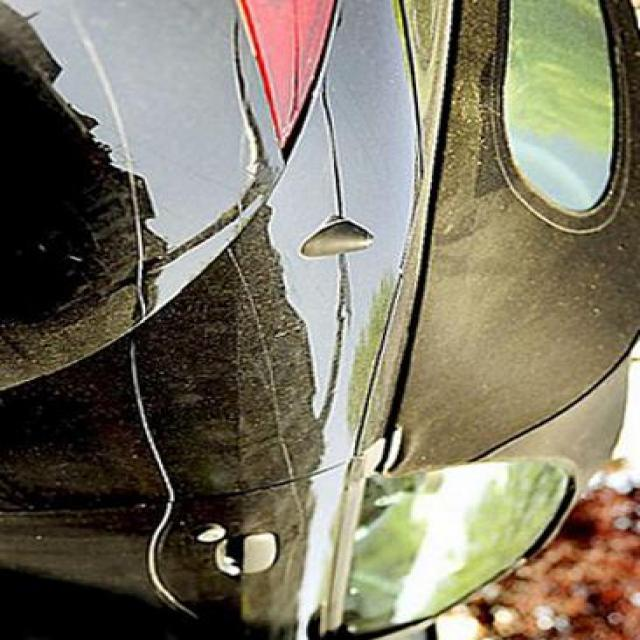scratch: (118, 323, 209, 640), (62, 16, 162, 298)
